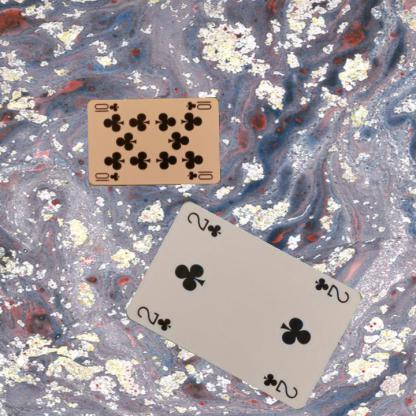10c: (183, 99, 213, 111), (92, 170, 120, 182)
2c: (311, 275, 351, 305), (134, 303, 172, 333)
